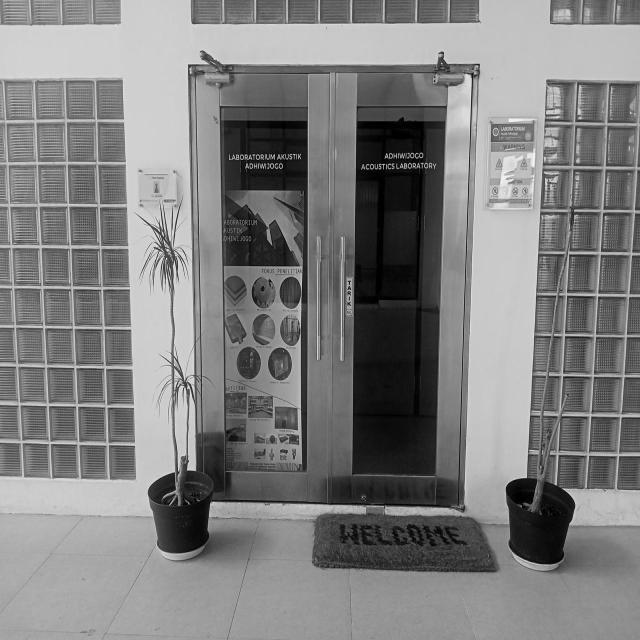door: (188, 64, 481, 506)
